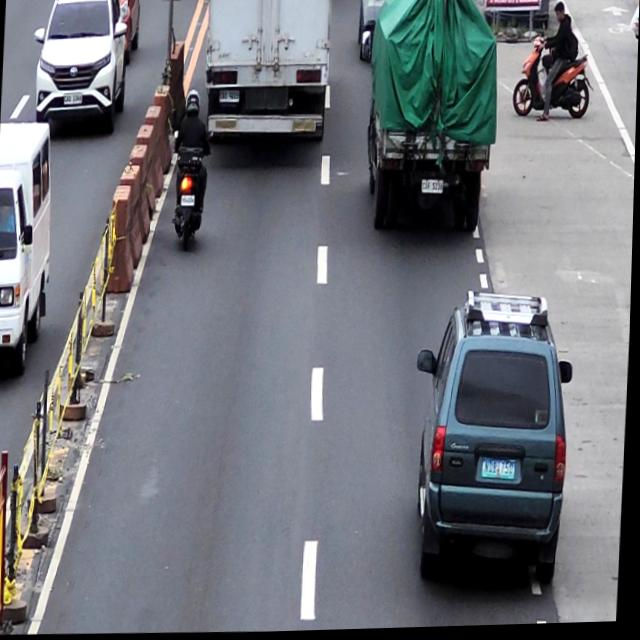Car: (414, 290, 571, 587)
License-Plate: (483, 457, 520, 488), (421, 179, 446, 198), (217, 90, 241, 108), (180, 194, 197, 210)
Motorcycle: (167, 86, 211, 250)
Truck: (366, 0, 491, 233), (203, 0, 330, 149)
